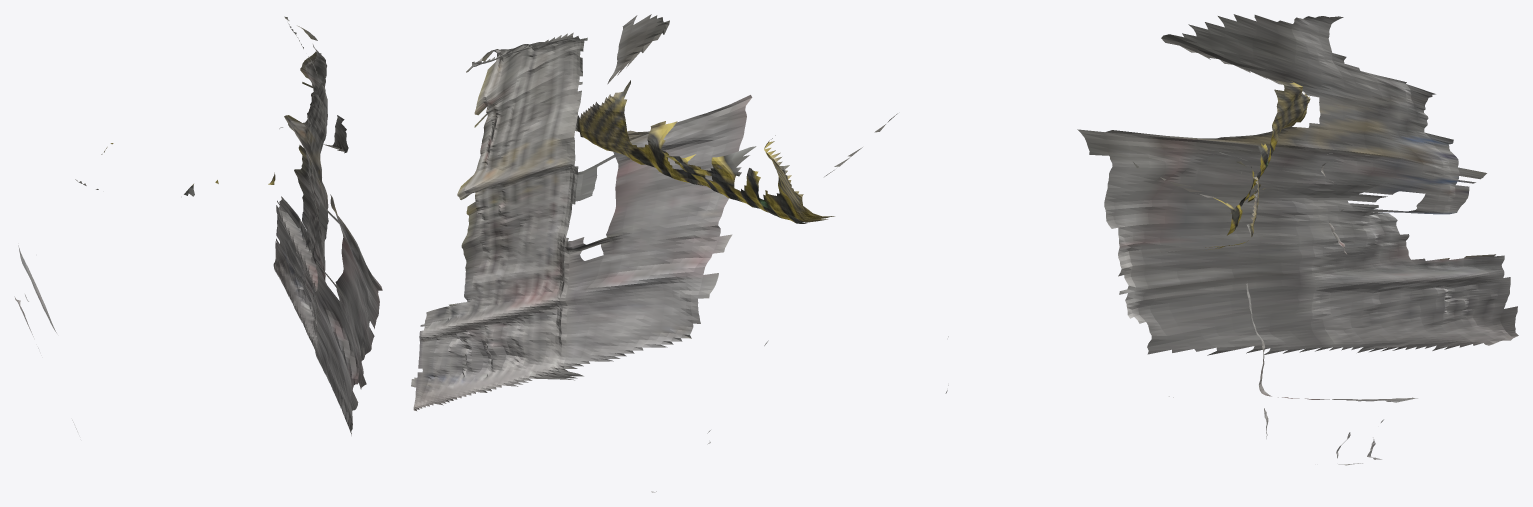
File: fence-observed.glb
3 renders of one model, left to right at view 1: azimuth 30°, elevation 25°; view 2: azimuth 150°, elevation 25°; view 3: azimuth 270°, elevation 25°, orthographic. The views are drawn at different scales.
Parts seen in each view (by area): view 1: geometry_0; view 2: geometry_0; view 3: geometry_0.
Boxes of the visible parts, left/top/right/bottom form: geometry_0: left=14, top=16, right=382, bottom=435; geometry_0: left=411, top=14, right=948, bottom=492; geometry_0: left=1077, top=14, right=1518, bottom=465.
Size of the model in its own units: 4.45 by 4.38 by 5.49.
